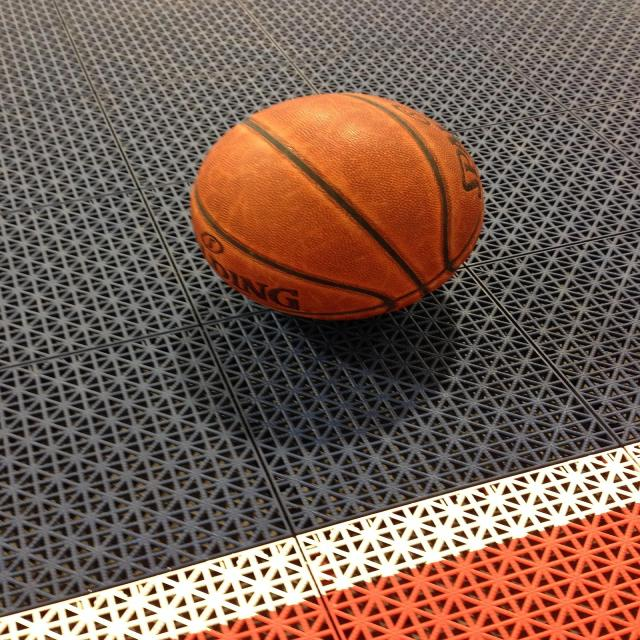Basketball: (191, 89, 481, 319)
